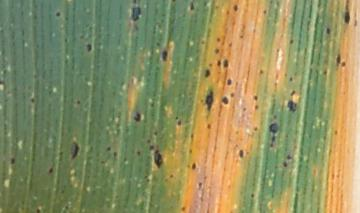tarspot: (268, 121, 279, 148), (205, 89, 215, 115), (153, 148, 164, 170), (129, 6, 142, 22), (70, 141, 79, 162), (286, 99, 297, 113), (132, 111, 142, 124), (343, 10, 351, 26), (334, 51, 341, 69), (220, 95, 229, 106), (160, 49, 168, 61), (203, 68, 211, 80), (225, 76, 233, 87), (343, 1, 352, 10), (352, 18, 360, 28), (197, 180, 203, 193), (222, 57, 229, 68), (85, 43, 93, 52), (238, 148, 244, 160), (189, 132, 195, 144), (62, 36, 70, 45), (190, 161, 197, 171), (232, 3, 239, 13), (213, 46, 220, 56), (321, 67, 328, 77), (287, 38, 295, 46), (143, 174, 151, 182), (9, 156, 16, 165), (47, 166, 54, 175), (281, 160, 288, 169), (215, 59, 222, 68), (252, 93, 259, 102), (261, 8, 268, 17), (325, 26, 331, 36), (286, 152, 292, 162), (339, 60, 346, 68), (289, 90, 296, 98), (205, 122, 212, 130), (54, 10, 61, 18), (111, 150, 118, 158), (167, 173, 175, 180), (252, 125, 259, 133), (226, 40, 233, 48), (189, 2, 195, 11), (215, 36, 221, 45), (176, 119, 182, 128), (258, 67, 264, 76), (333, 128, 339, 137), (98, 159, 107, 165), (253, 104, 260, 111), (75, 99, 82, 106), (105, 145, 112, 152), (148, 144, 155, 151), (145, 138, 152, 145), (134, 150, 141, 157), (152, 130, 159, 137), (274, 47, 281, 54), (63, 204, 70, 211), (229, 91, 235, 99), (250, 192, 256, 200), (29, 96, 35, 104), (180, 205, 186, 213), (188, 147, 193, 156), (35, 207, 42, 213), (241, 106, 247, 113), (238, 34, 245, 40), (207, 62, 213, 69), (288, 76, 294, 82), (199, 98, 204, 104), (131, 1, 137, 5), (170, 1, 177, 3)
